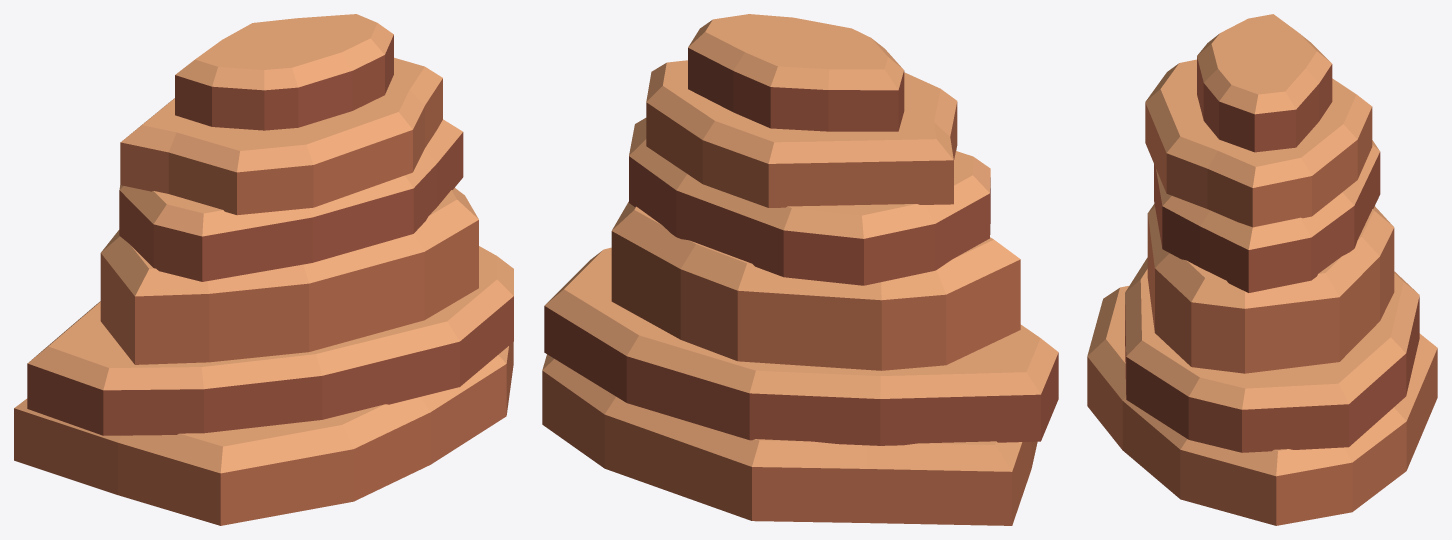
Rendered from mesa_a.glb.
3 renders of one model, left to right at view 1: azimuth 30°, elevation 25°; view 2: azimuth 150°, elevation 25°; view 3: azimuth 270°, elevation 25°, orthographic. The views are drawn at different scales.
Parts seen in each view (by area): view 1: mesa_a; view 2: mesa_a; view 3: mesa_a.
Part boxes in pixels (bbox=[...]): mesa_a: bbox=[14, 14, 513, 525]; mesa_a: bbox=[542, 14, 1058, 525]; mesa_a: bbox=[1087, 14, 1437, 525].
Bounding box in the file's own units: 32.66 × 25.04 × 21.84.
